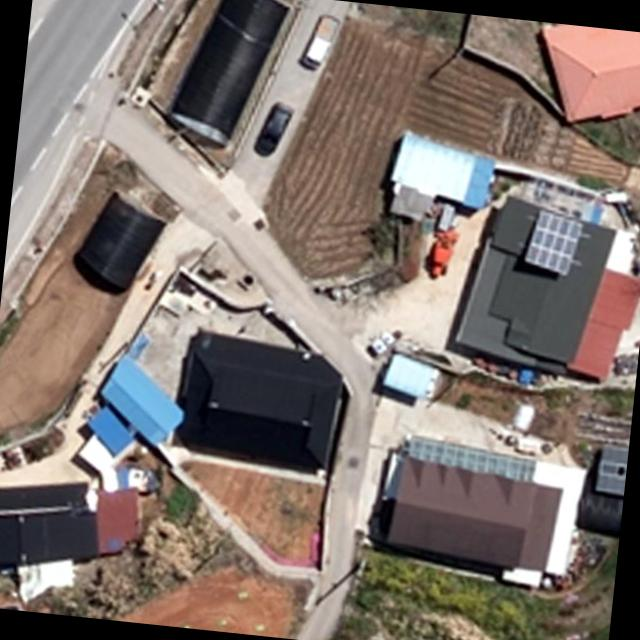solar: (522, 208, 588, 280)
